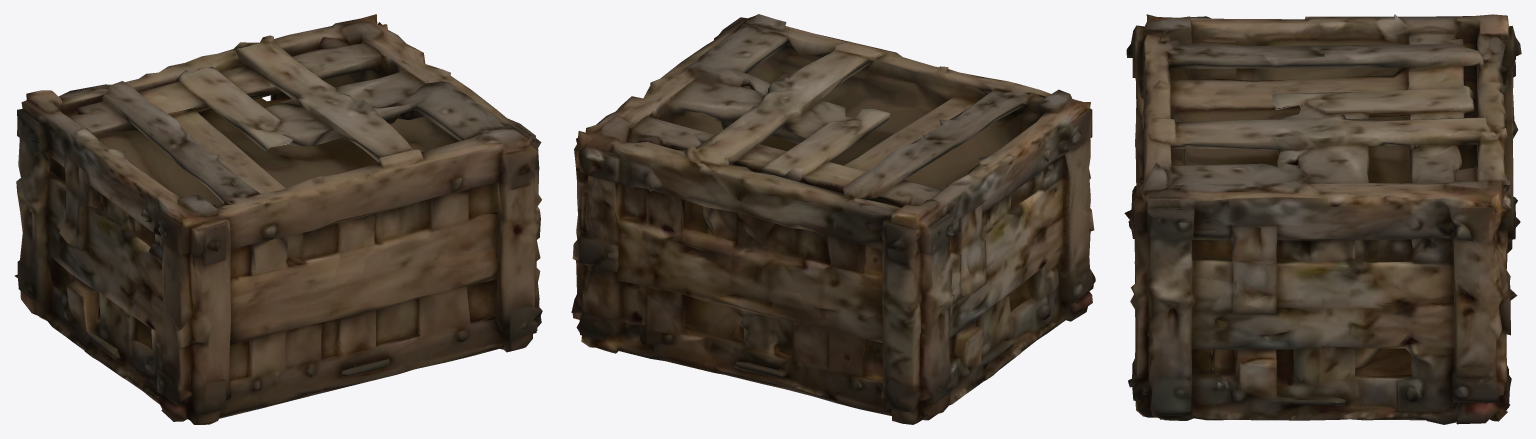
Rendered from crate.glb.
3 renders of one model, left to right at view 1: azimuth 30°, elevation 25°; view 2: azimuth 150°, elevation 25°; view 3: azimuth 270°, elevation 25°, orthographic. The views are drawn at different scales.
Visible parts, largest first — view 1: tripo_node_6140e4ae-334c-412c-98e3-c24fca8bd55d; view 2: tripo_node_6140e4ae-334c-412c-98e3-c24fca8bd55d; view 3: tripo_node_6140e4ae-334c-412c-98e3-c24fca8bd55d.
Part boxes in pixels (x1,y1,x2,y2): tripo_node_6140e4ae-334c-412c-98e3-c24fca8bd55d: (14,14,542,424); tripo_node_6140e4ae-334c-412c-98e3-c24fca8bd55d: (571,14,1095,424); tripo_node_6140e4ae-334c-412c-98e3-c24fca8bd55d: (1124,14,1521,424).
Bounding box in the file's own units: 1 × 0.5741 × 0.8544.
1 material, 1 textured.
